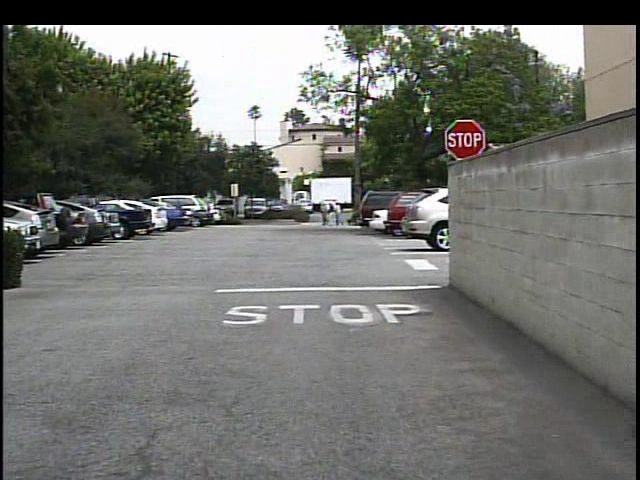person: (329, 202, 343, 230), (315, 203, 329, 229)
